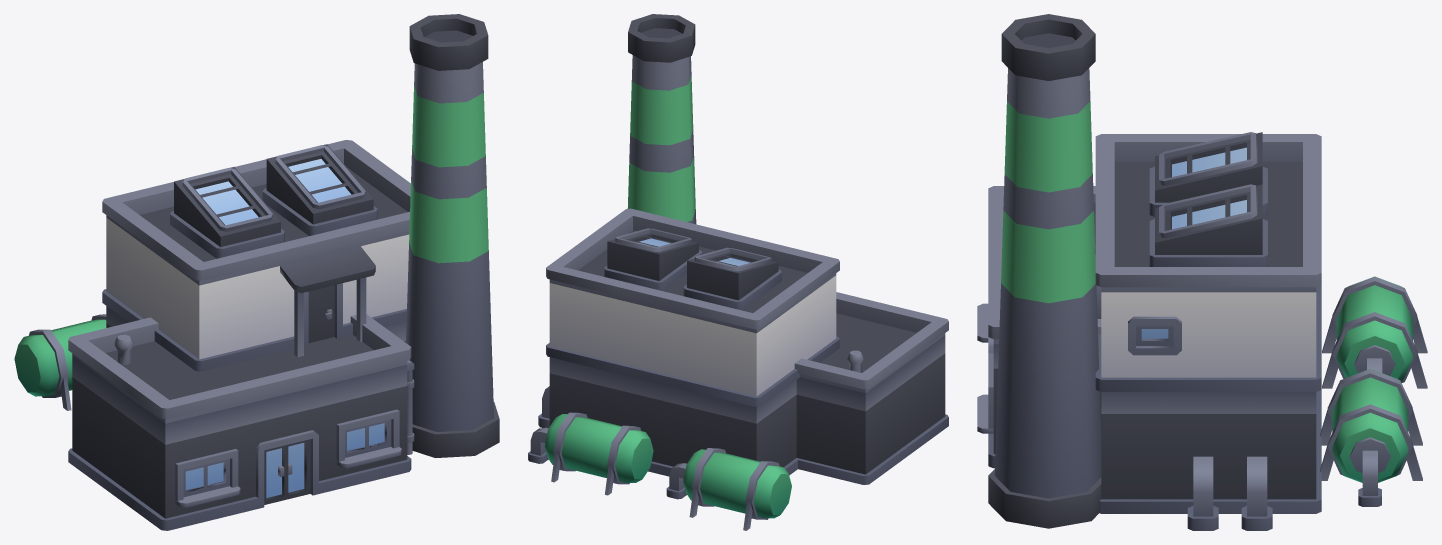
Rendered from chemistry_level2.glb.
3 renders of one model, left to right at view 1: azimuth 30°, elevation 25°; view 2: azimuth 150°, elevation 25°; view 3: azimuth 270°, elevation 25°, orthographic. The views are drawn at different scales.
Parts seen in each view (by area): view 1: building-f; view 2: building-f; view 3: building-f.
Boxes of the visible parts, x1,y1,x2,y2 form: building-f: [14, 14, 499, 530]; building-f: [528, 14, 948, 530]; building-f: [977, 14, 1427, 530].
Bounding box in the file's own units: 1.11 × 1.19 × 1.03.
2 materials, 2 textured.
